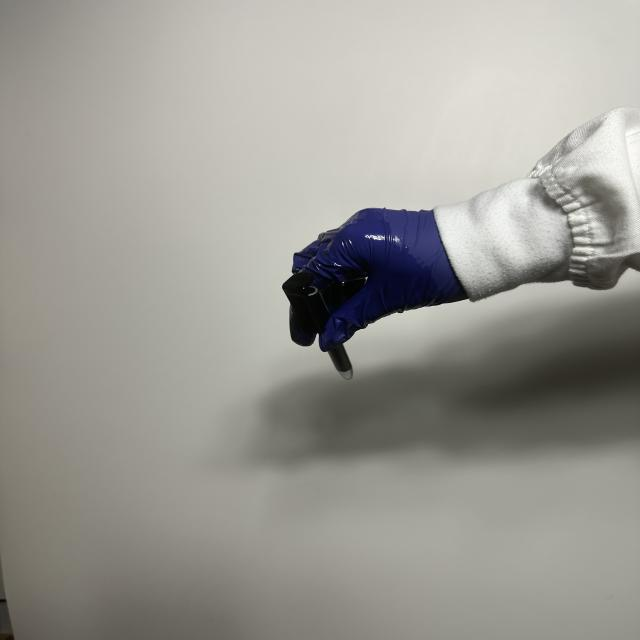gloves_contaminated: (282, 208, 468, 352)
